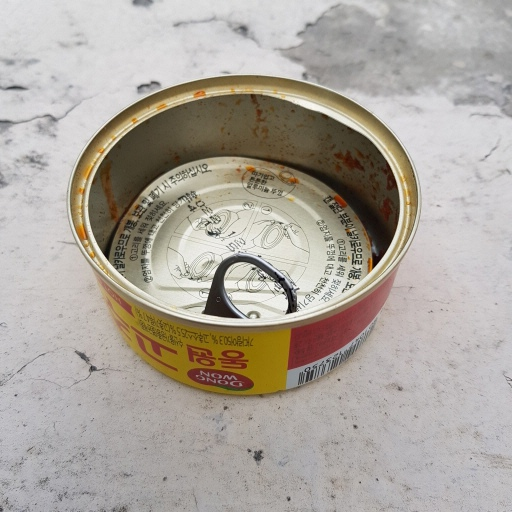Metal_1: (66, 73, 423, 401)
